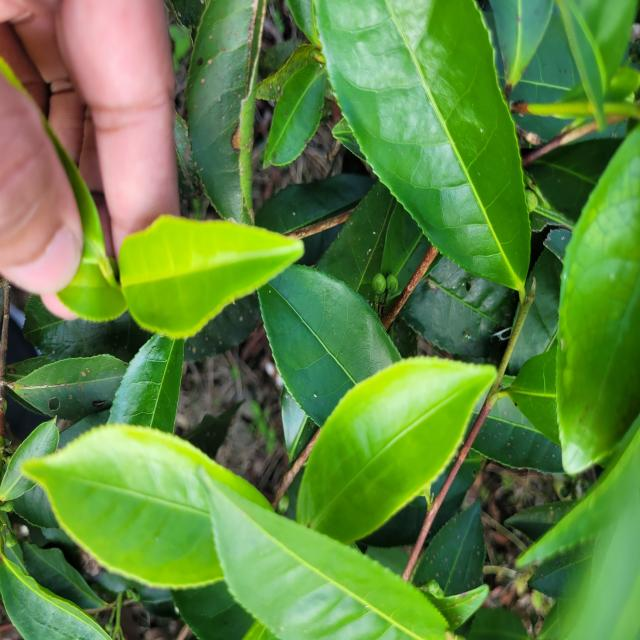Category B(2-4 days): (106, 193, 313, 358)
